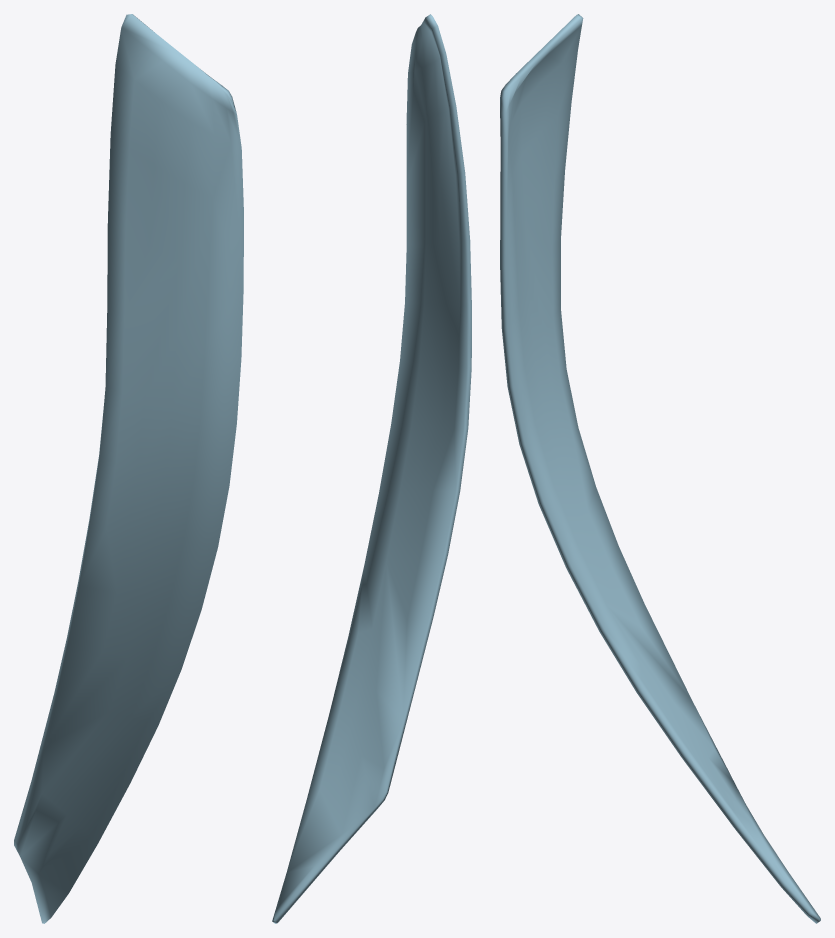
The model's file is articulacoes-descending-part-of-iliofemoral-ligament-r.glb.
The picture shows the model from 3 angles, left to right: view 1: azimuth 30°, elevation 25°; view 2: azimuth 150°, elevation 25°; view 3: azimuth 270°, elevation 25°; orthographic projection. The views are drawn at different scales.
Visible parts, largest first — view 1: Descending part of iliofemoral ligament.r; view 2: Descending part of iliofemoral ligament.r; view 3: Descending part of iliofemoral ligament.r.
Part boxes in pixels (x1,y1,x2,y2): Descending part of iliofemoral ligament.r: (14,14,243,923); Descending part of iliofemoral ligament.r: (272,14,471,923); Descending part of iliofemoral ligament.r: (500,14,820,923).
Size of the model in its own units: 0.00875 by 0.0751 by 0.0246.
